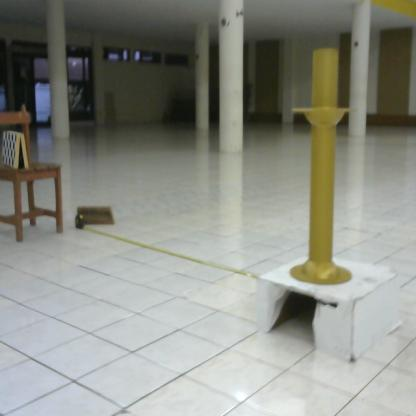pole: (285, 43, 364, 287)
